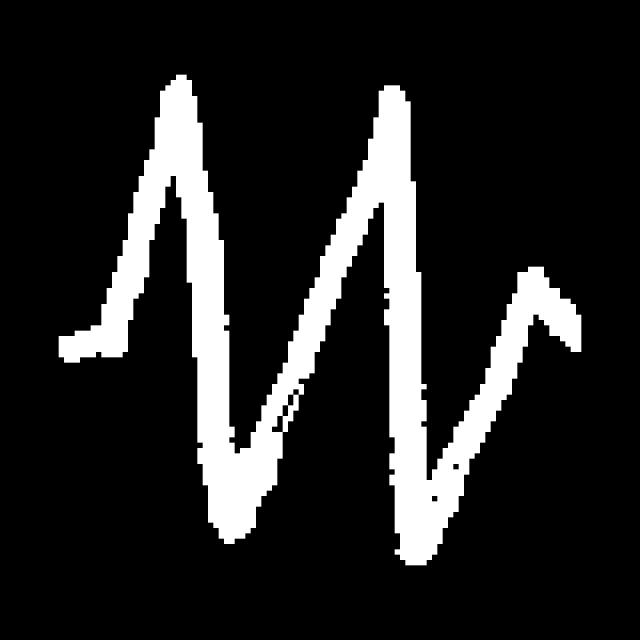resistor: (99, 50, 541, 580)
